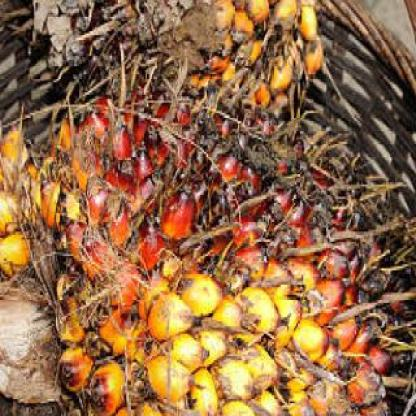Ripe: (0, 118, 402, 416), (64, 0, 328, 100)
